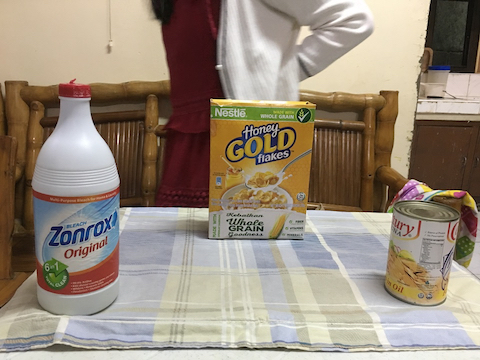bottle: (30, 76, 130, 314)
box: (204, 97, 319, 245)
can: (381, 200, 462, 305)
